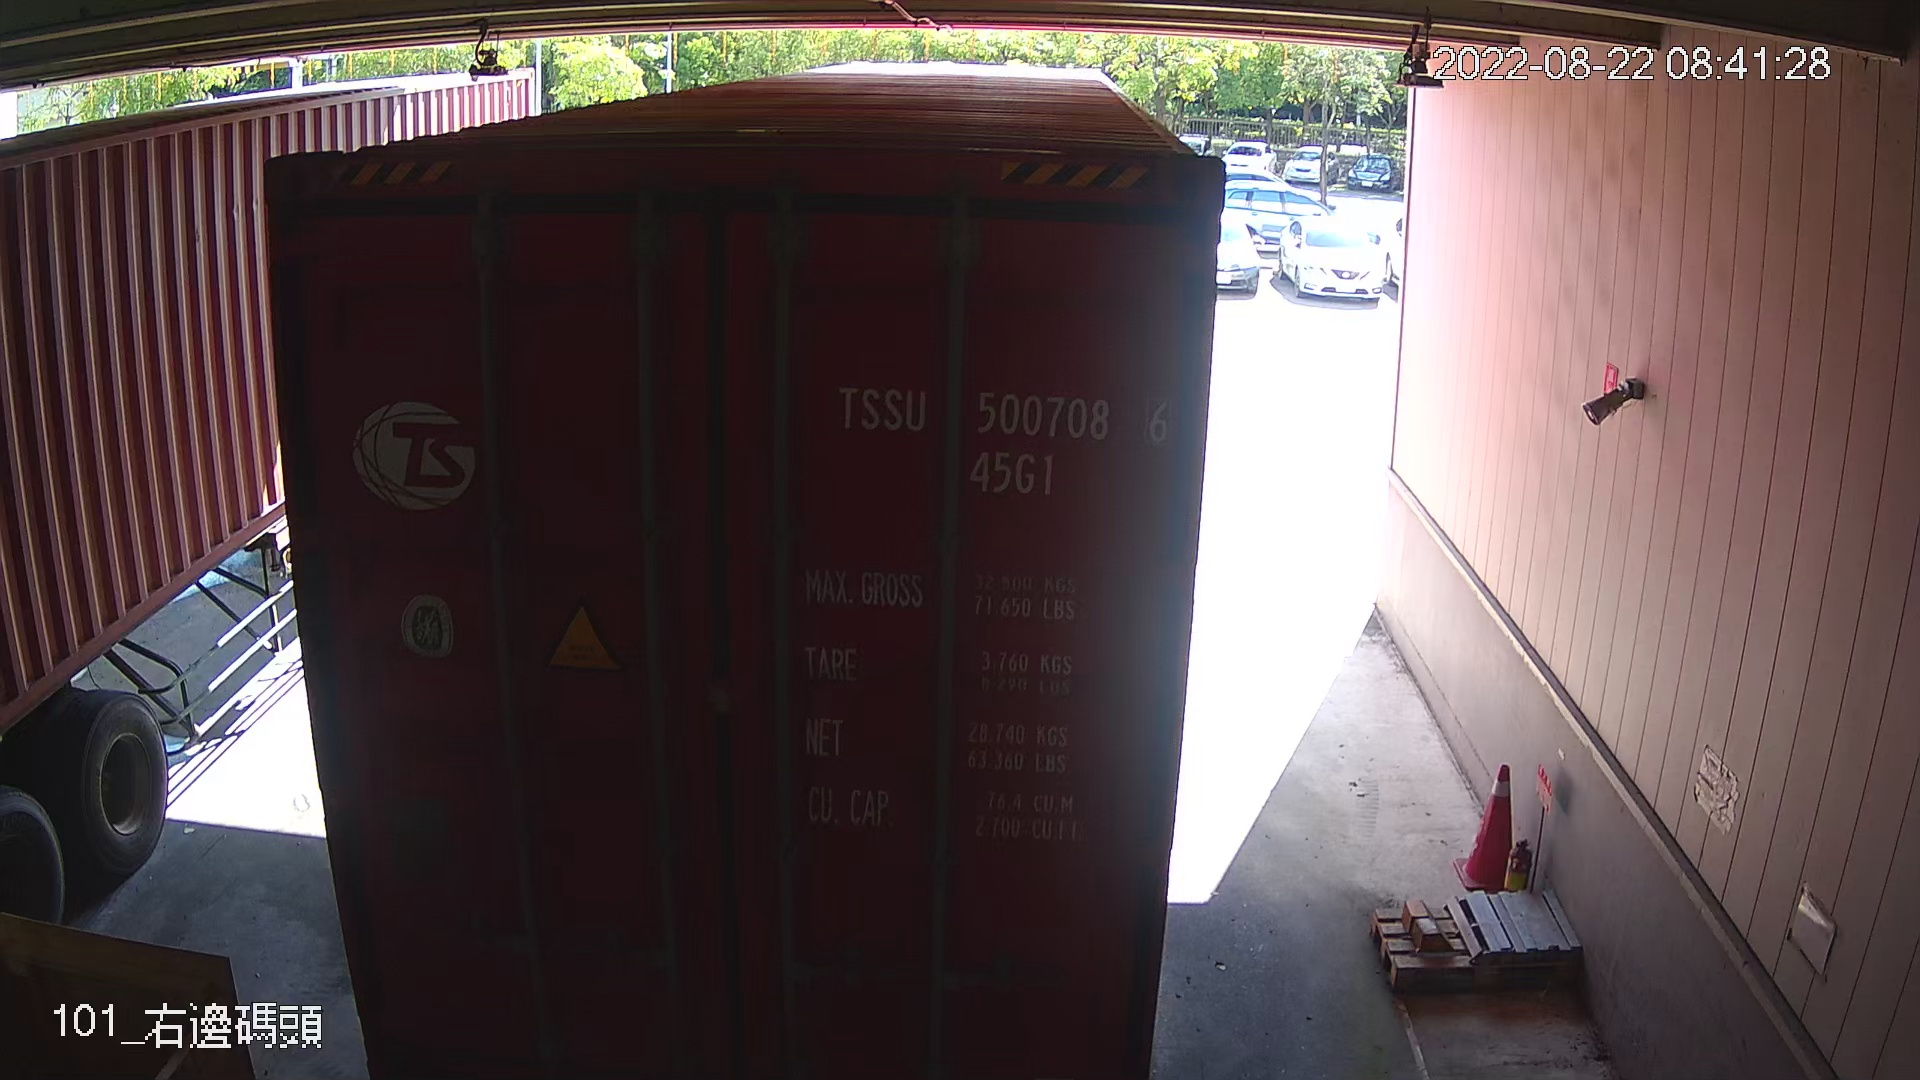container: (816, 363, 1185, 502)
